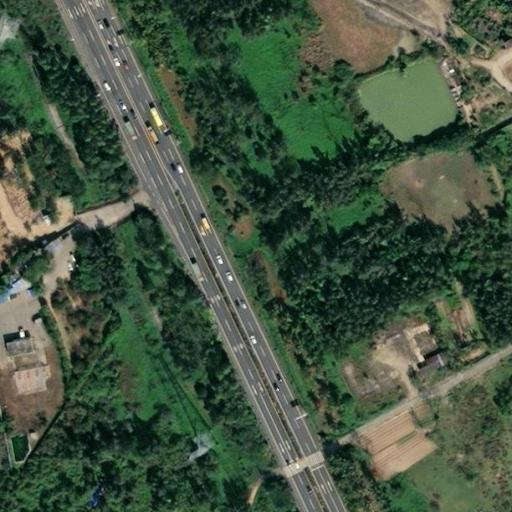building: (0, 365, 40, 395), (412, 346, 447, 378), (0, 7, 21, 48), (3, 331, 35, 355), (15, 253, 40, 275), (19, 231, 44, 249), (64, 365, 84, 385), (34, 246, 50, 262), (45, 227, 58, 239), (86, 341, 97, 353), (0, 277, 8, 291), (80, 353, 90, 364), (10, 242, 21, 251), (72, 252, 80, 260)
